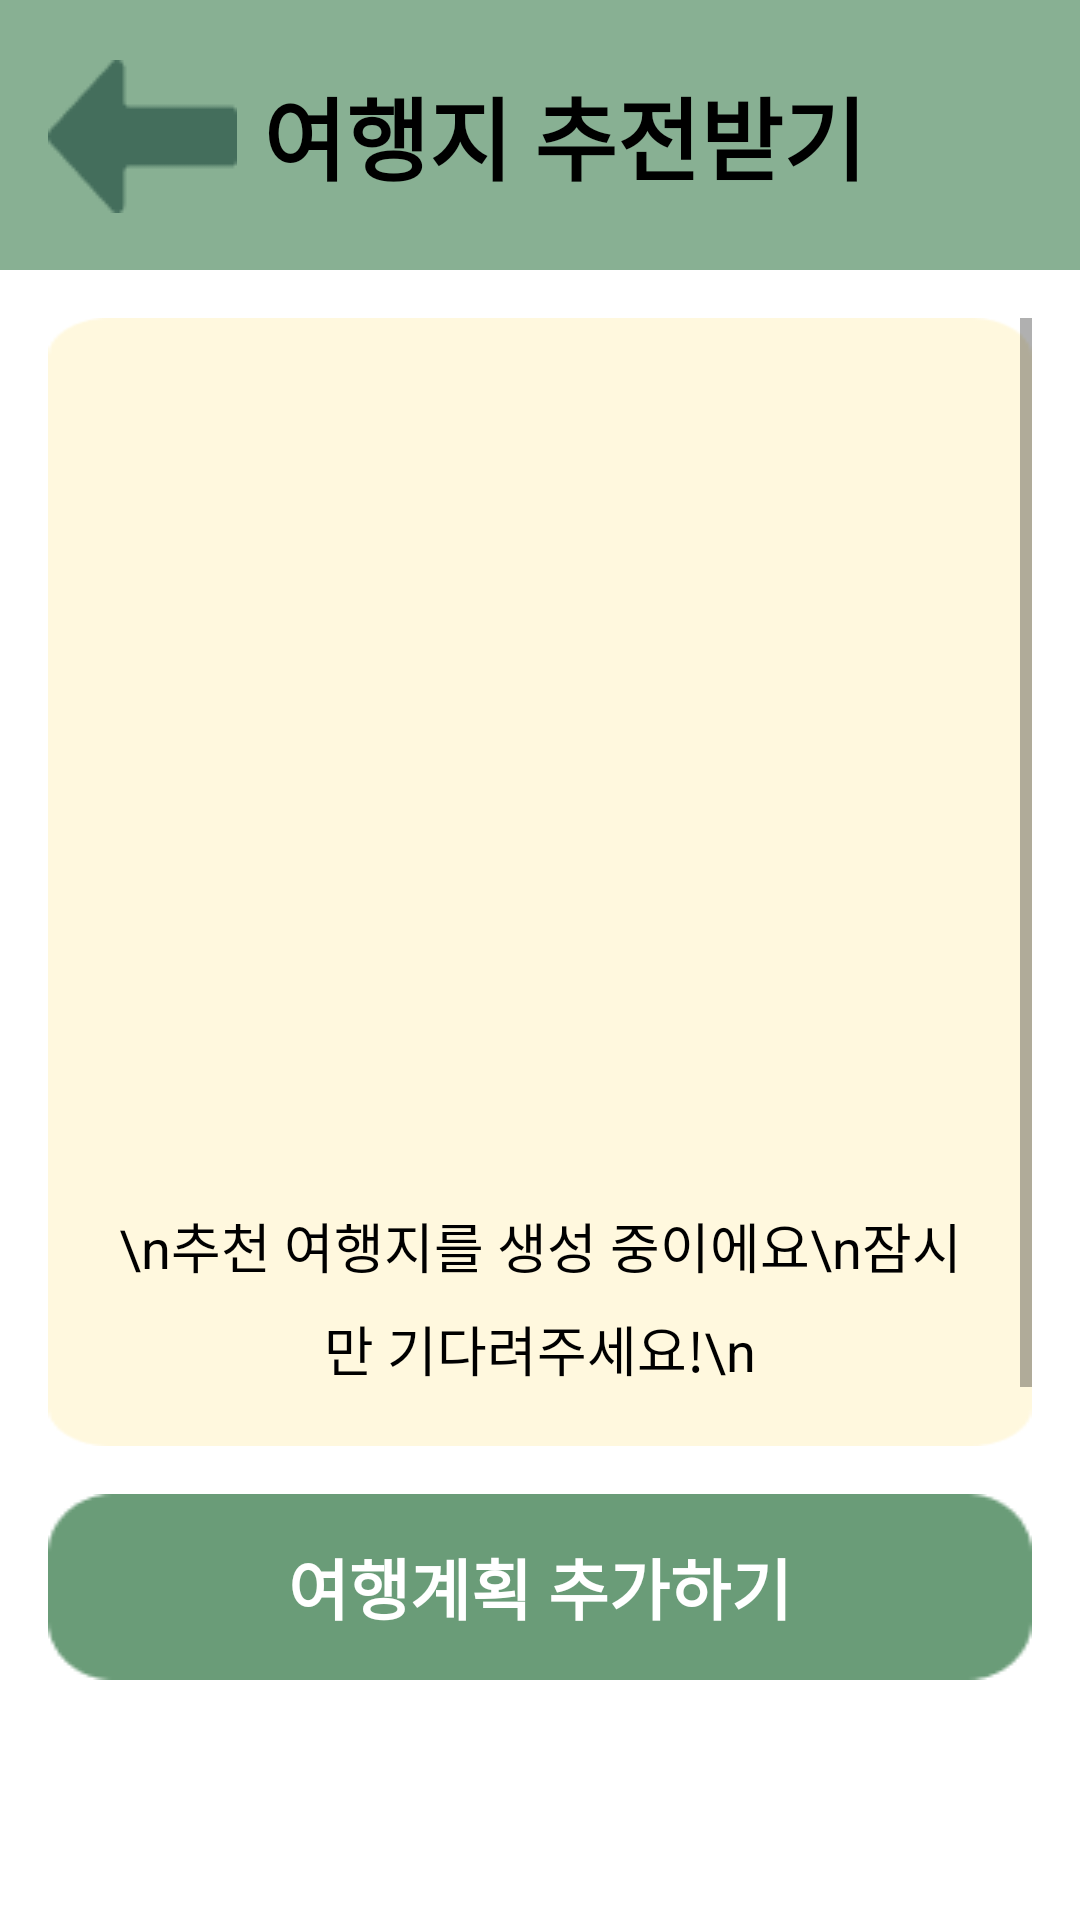

Icon click points for this 1080×1920 phone screenshot, format (x,y):
back 버튼: (142,136)
